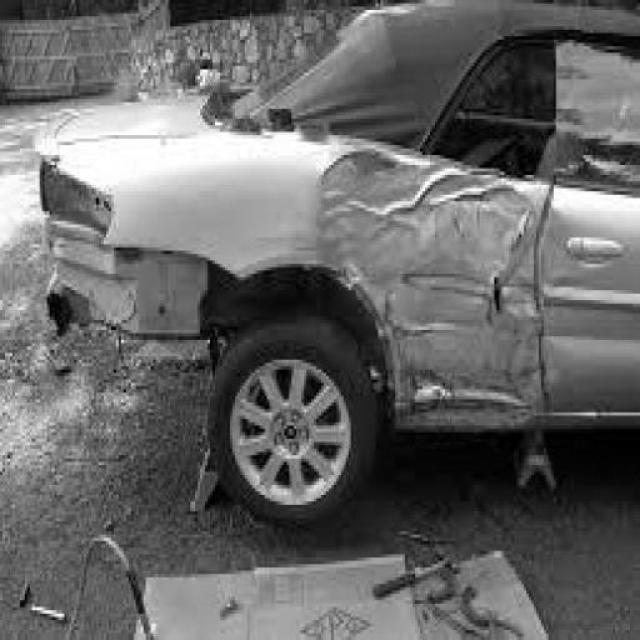crush: (316, 138, 554, 435)
missing: (39, 149, 309, 358)
